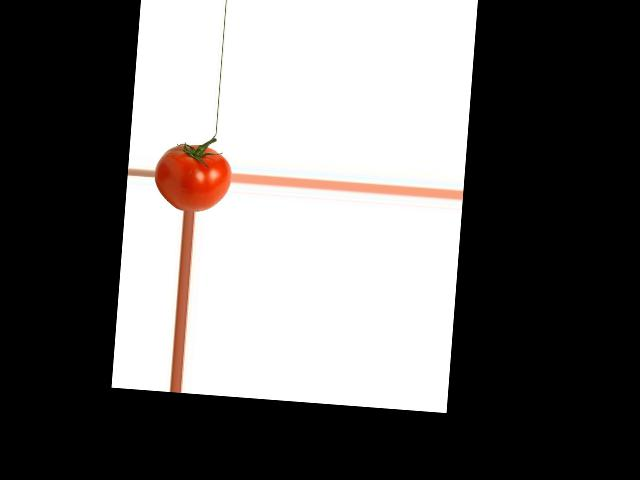tomato: (151, 141, 233, 213)
